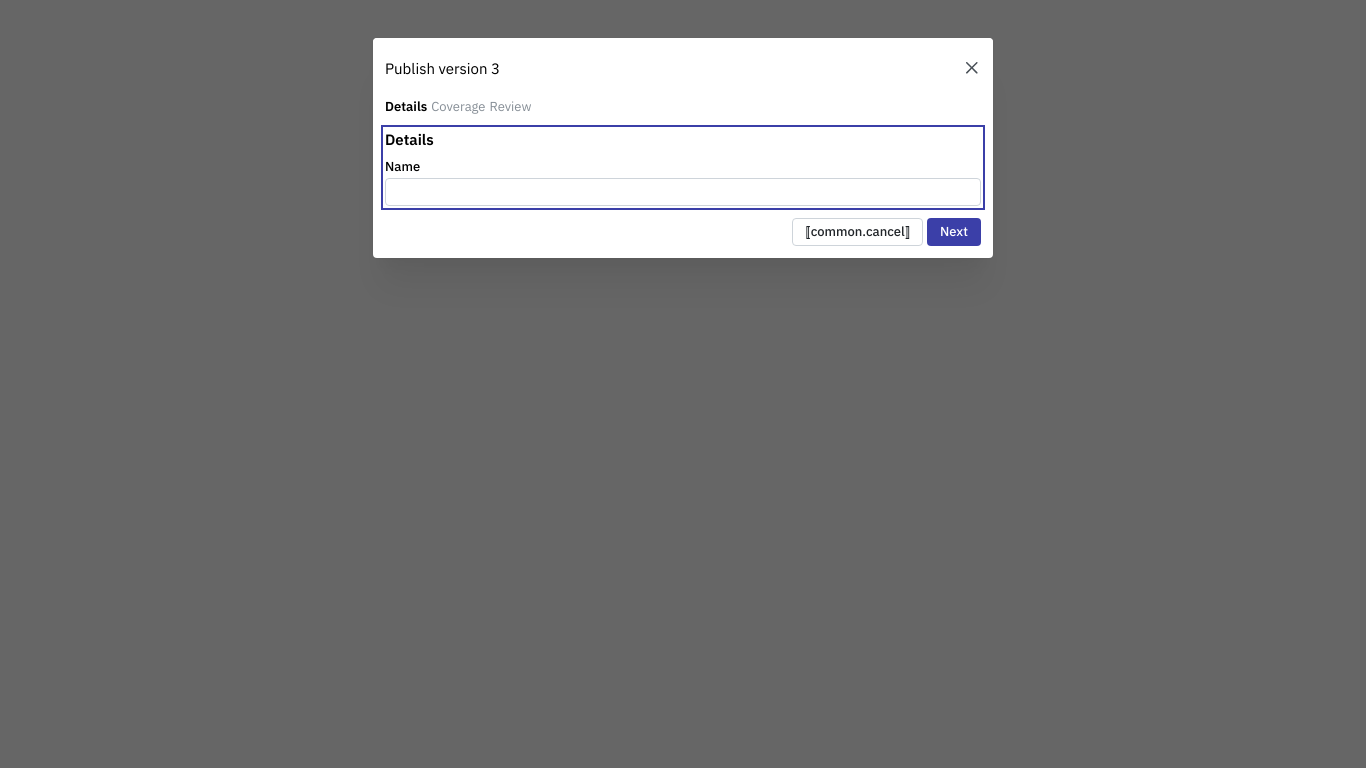
Wizard — Apply перевіряє ВСІ кроки, а не лише останній › Apply повертає на перший крок, що більше не проходить, із банером і фокусом
In the field labelled "Name": (683, 192) [385,178,981,206], type "x"
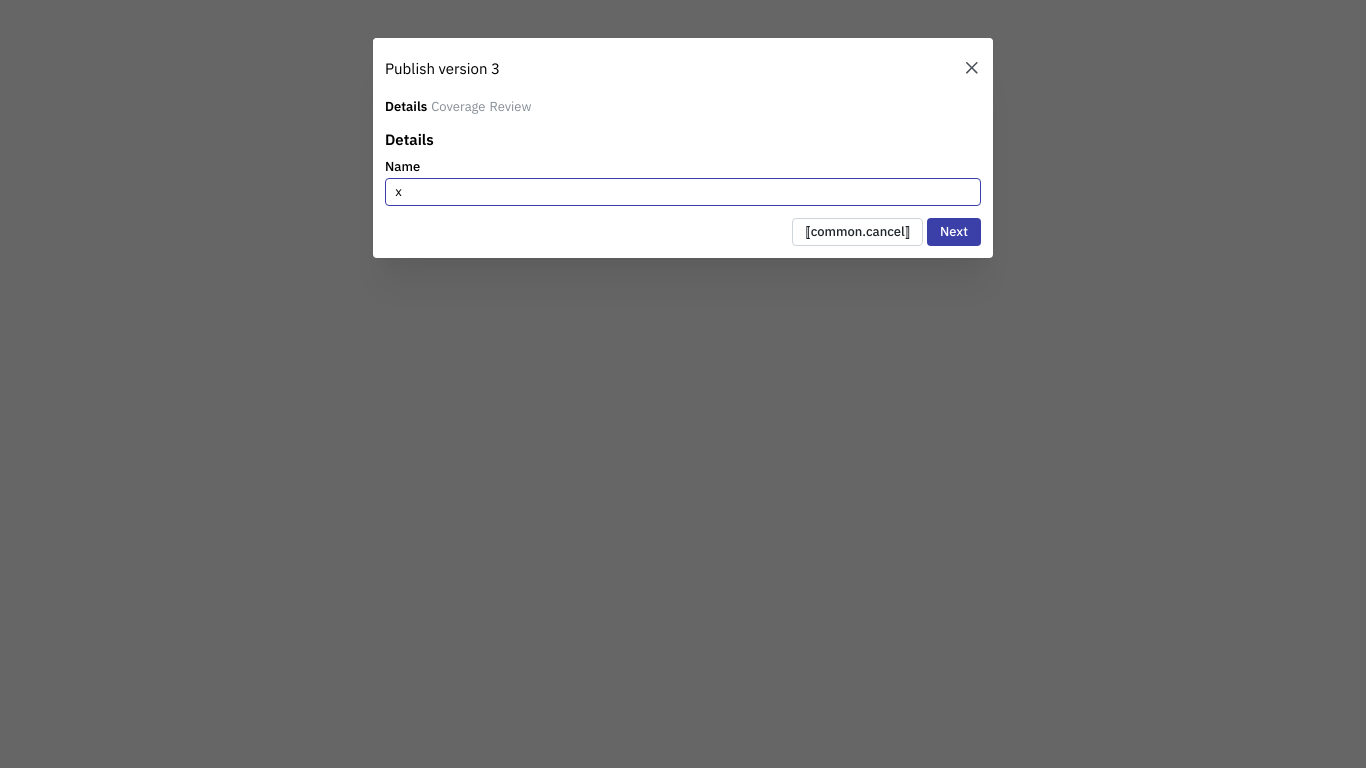
Click the button with test id "wizard-next": (954, 232) [927,218,981,246]
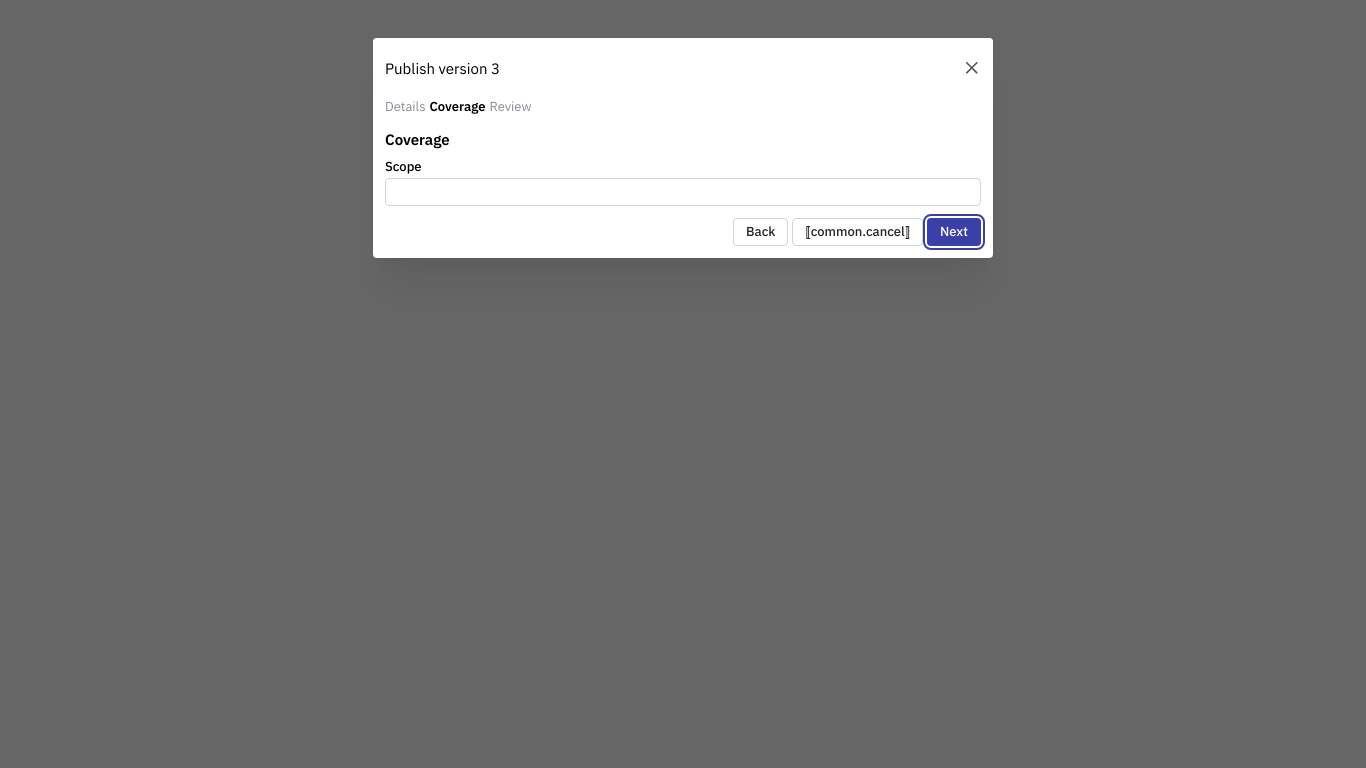
In the field labelled "Scope": (683, 192) [385,178,981,206], type "x"
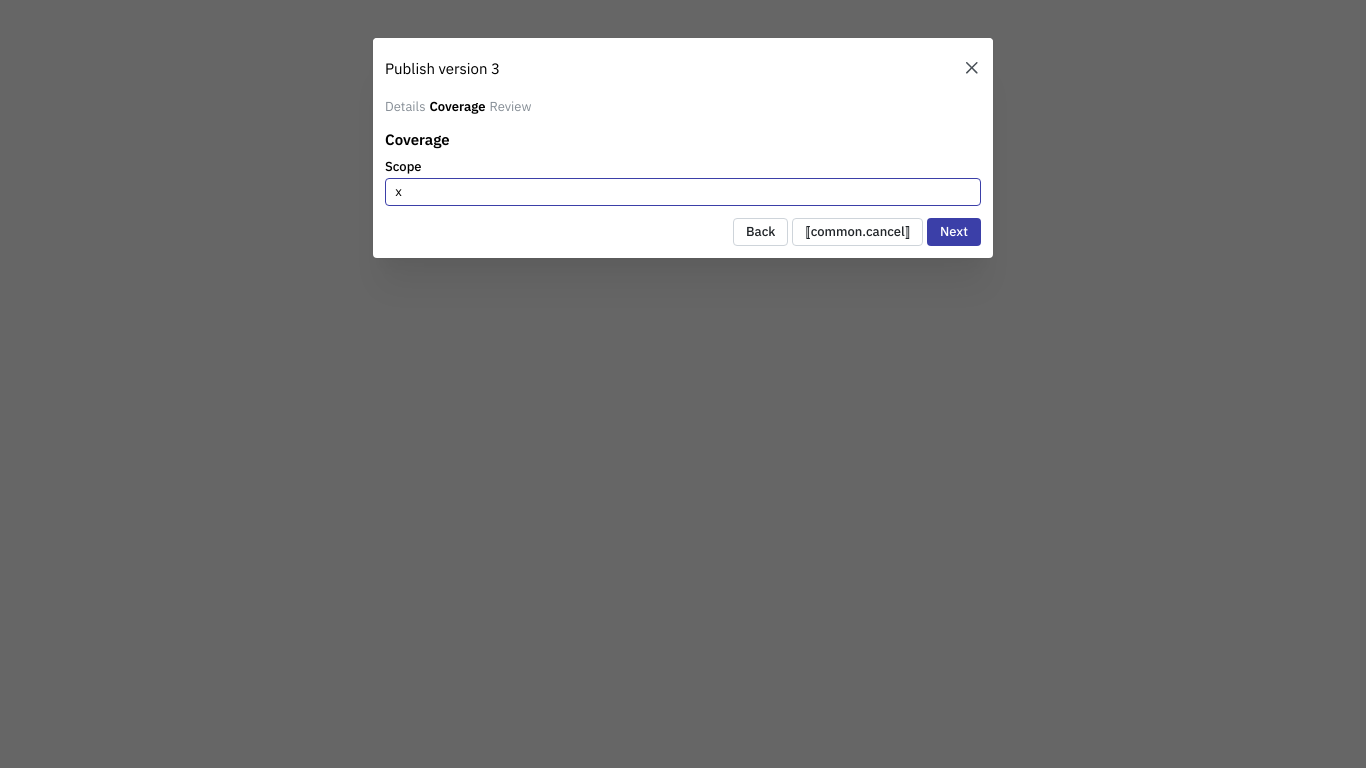
Click the button with test id "wizard-next": (954, 232) [927,218,981,246]
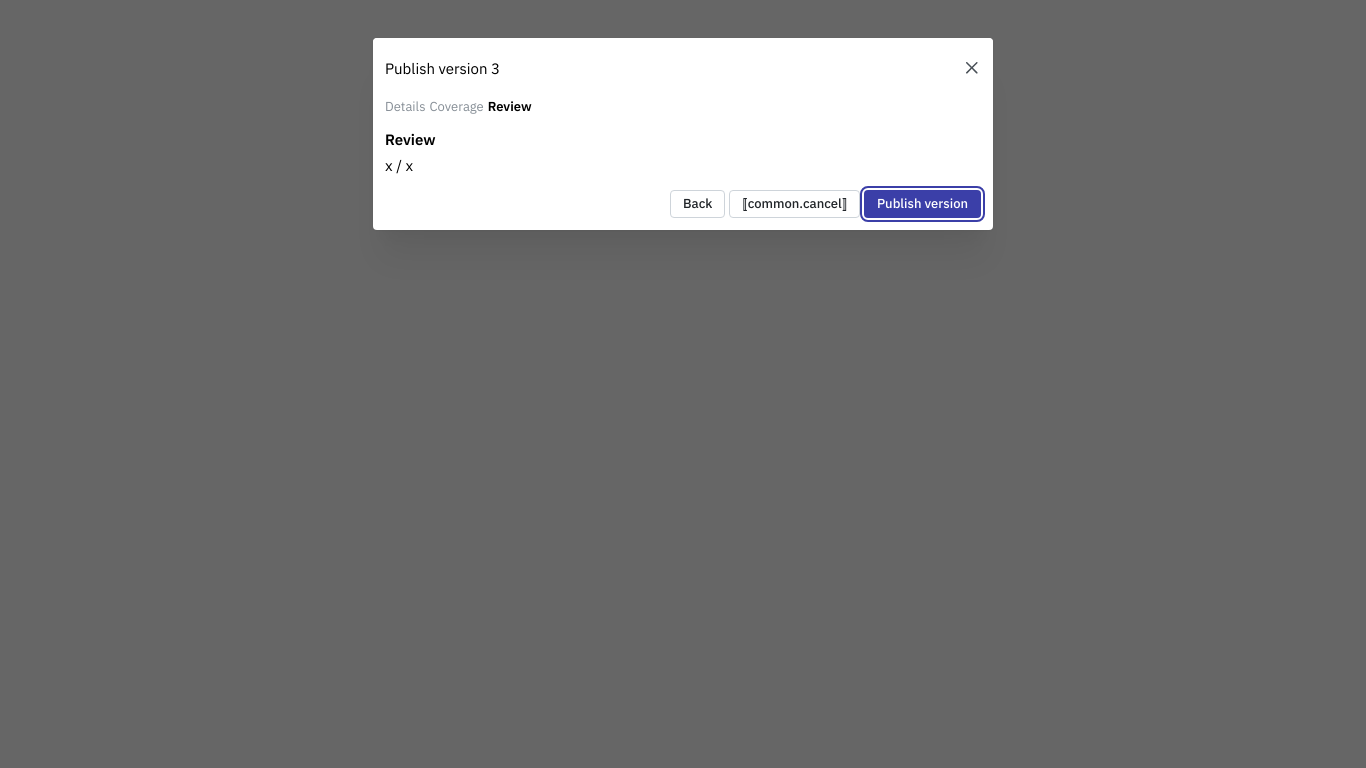
Click the button with test id "wizard-apply": (922, 204) [864,190,981,218]
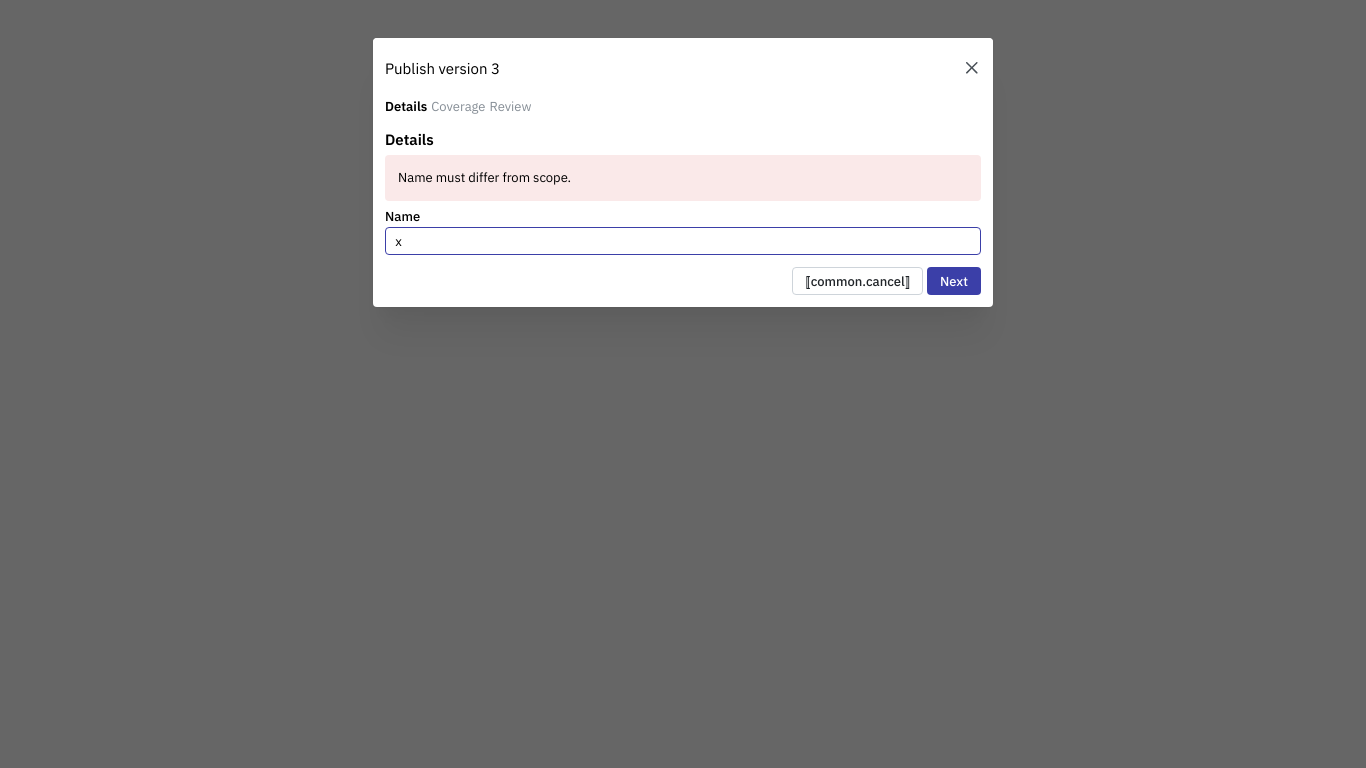
expect the message with test id "wizard-step-error" reads "Name must differ from scope.": met, box [398,170,571,187]
